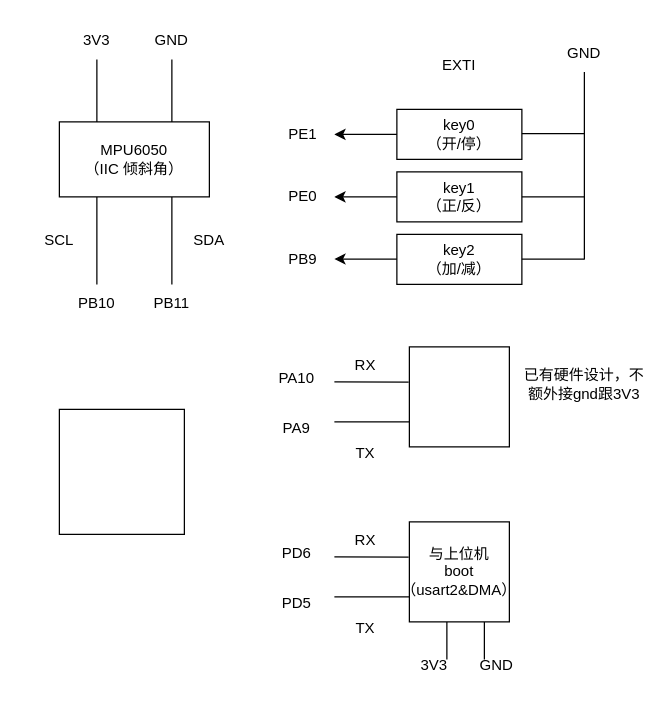
Some shapes in this 668 by 705 pixel diagram are drawn without their labels. The box of each missing label's shape, as (x1, y1, x2, y2) in pixels:
stm32f407vet6: (58, 408, 184, 534)
与console通讯 （usart1）: (408, 346, 509, 447)
